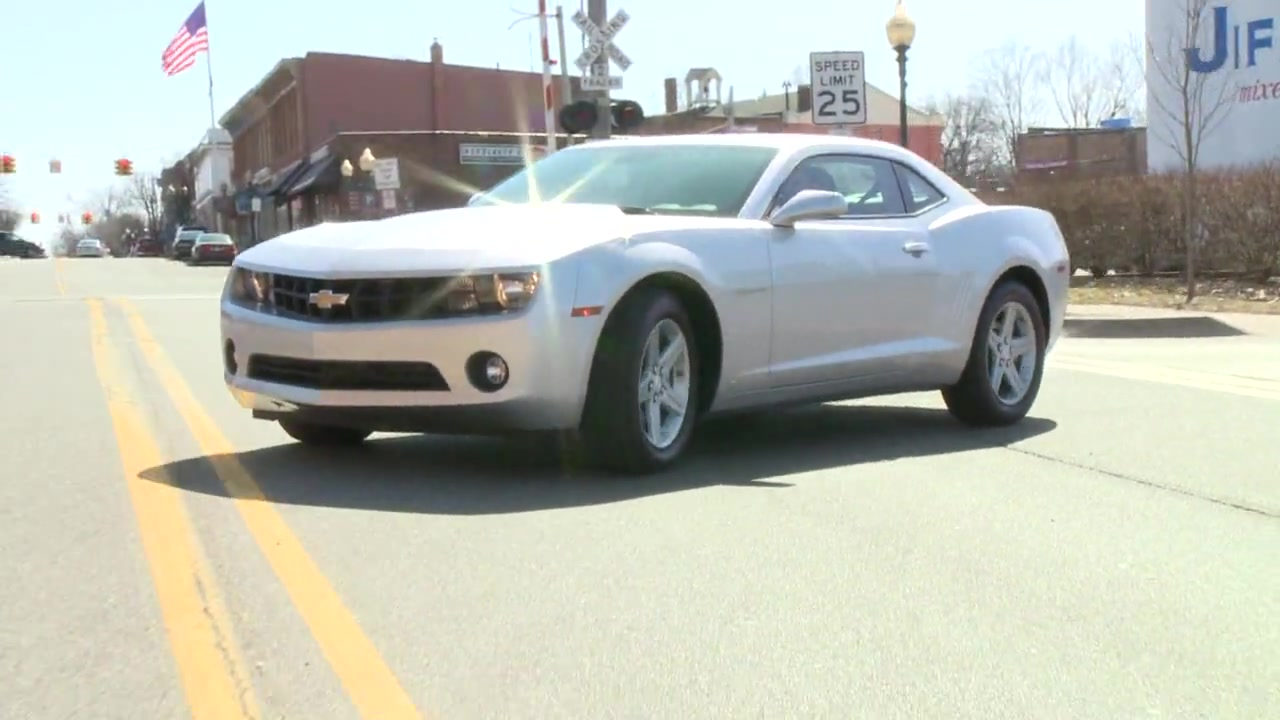car: (222, 125, 1079, 457)
